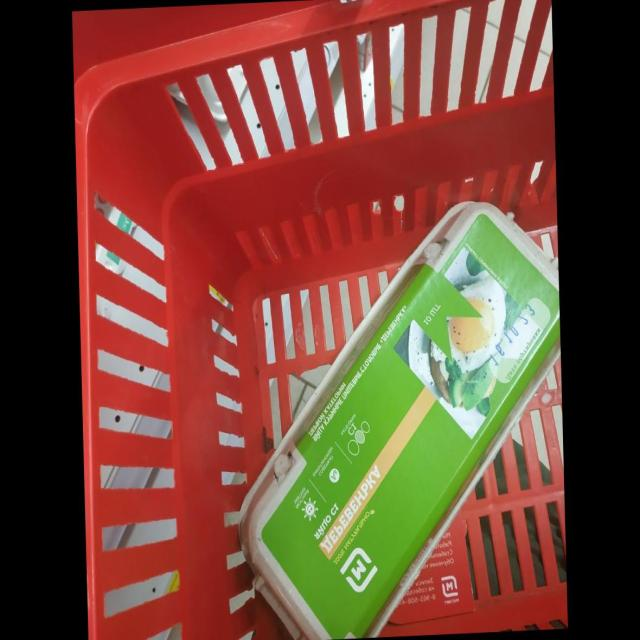Eggs: (240, 201, 561, 640)
